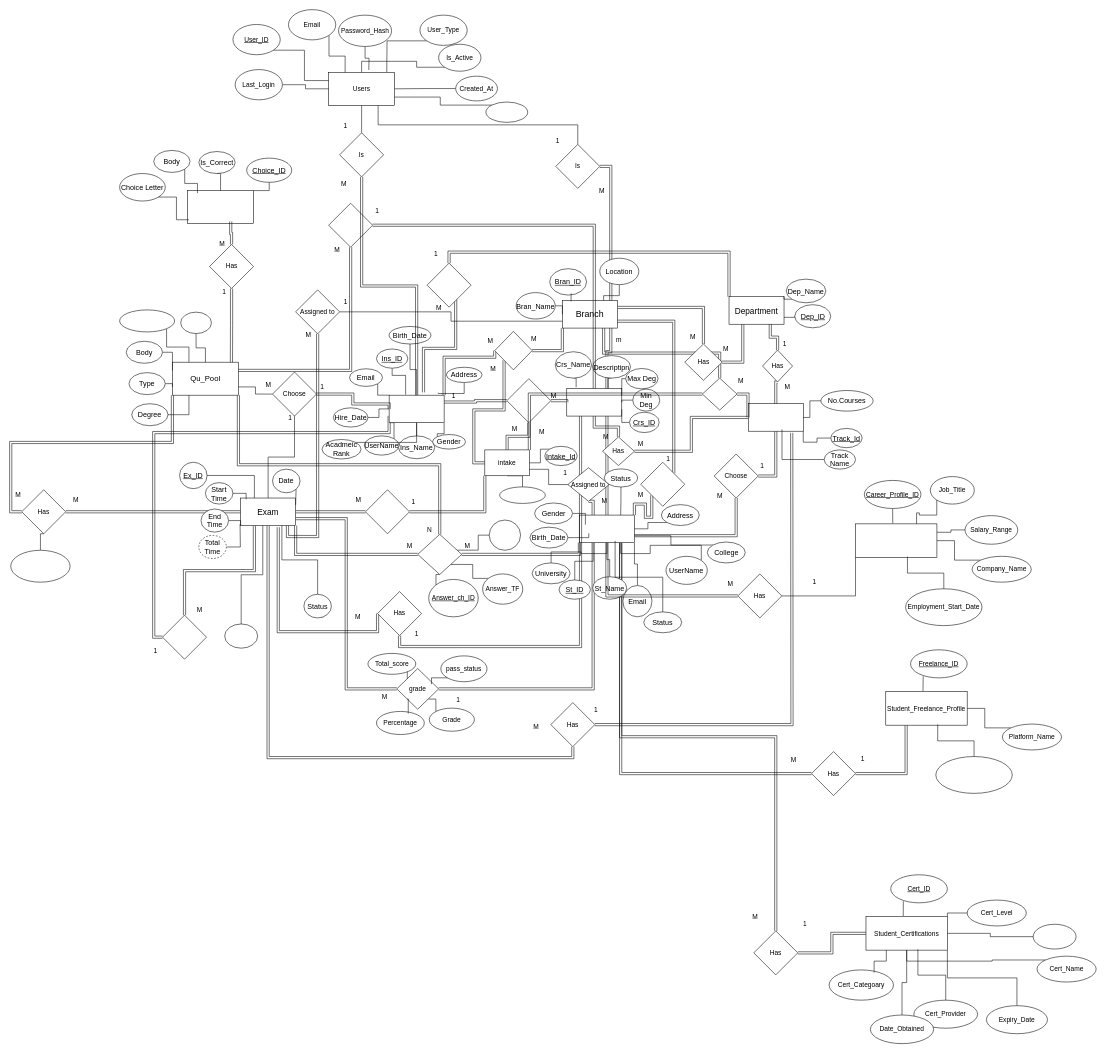
Image size: 1106x1053. Some labels were removed from this diagram. The centre of each missing label's shape, as x and y in pixels:
"Answer" goes at (x=439, y=554).
"assign" goes at (x=719, y=394).
"Based at" goes at (x=513, y=350).
"Choices" goes at (x=220, y=207).
"Corrective" goes at (x=241, y=635).
"Cost" goes at (x=1054, y=936).
"Course" goes at (x=594, y=402).
"Include" goes at (x=387, y=511).
"Instructor" goes at (x=416, y=409).
"Intake_Year" goes at (x=522, y=494).
"IS Added" goes at (x=350, y=225).
"Located" goes at (x=662, y=484).
"Make" goes at (x=184, y=637).
"model_answer" goes at (x=147, y=320).
"Qu_ID" goes at (x=195, y=323).
"Question_Order" goes at (x=40, y=566).
"Score" goes at (x=505, y=534).
"Start_Date" goes at (x=973, y=774).
"Student" goes at (x=606, y=529).
"Student_Career_Profile" goes at (x=896, y=540).
"Teaches" goes at (x=528, y=400).
"Track" goes at (x=775, y=417).
"Updated_At" goes at (x=506, y=111).
"Works For" goes at (x=449, y=285).
